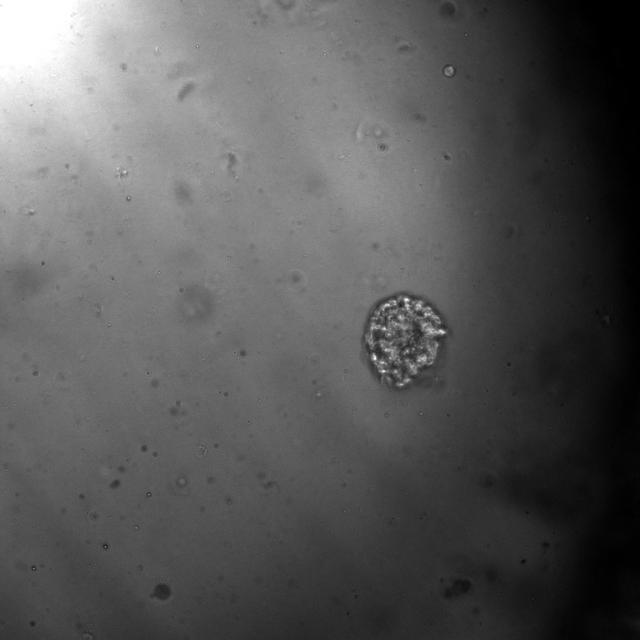organoid: (364, 293, 446, 388), (442, 64, 456, 77)
